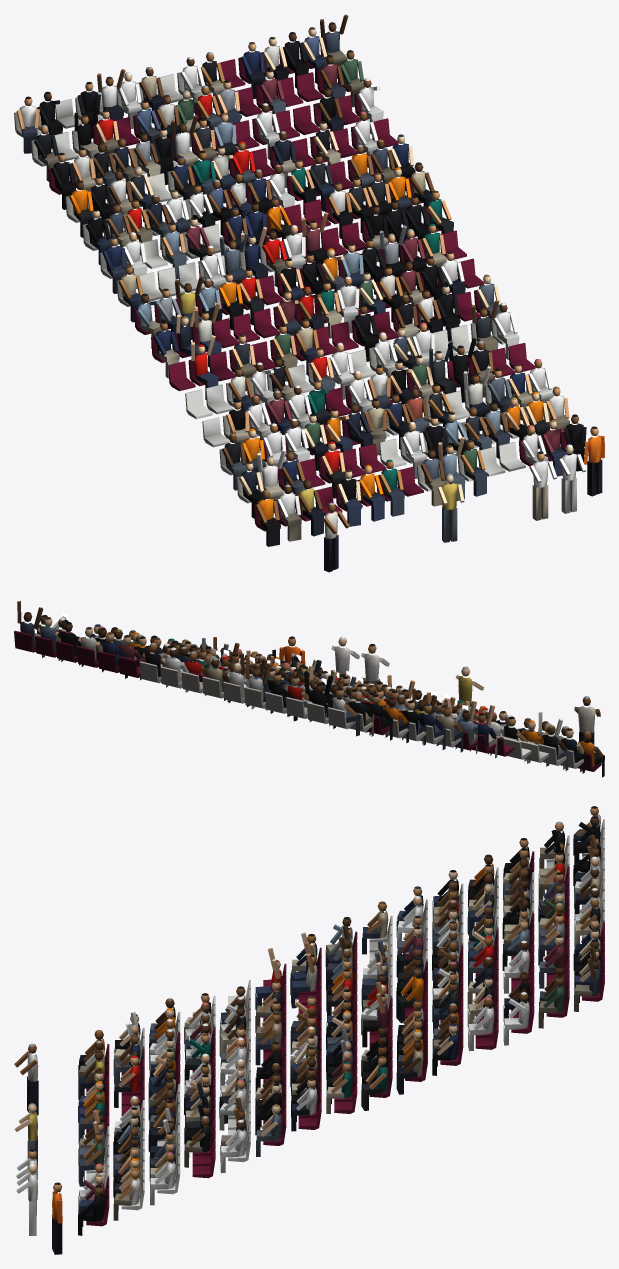
The model's file is stand_T16_kit_3.glb.
3 views of the same model, one above another, from view 1: azimuth 30°, elevation 25°; view 2: azimuth 150°, elevation 25°; view 3: azimuth 270°, elevation 25° (orthographic). The views are drawn at different scales.
Visible parts, largest first — view 1: kit_3; view 2: kit_3; view 3: kit_3.
Part boxes in pixels (x1=…): kit_3: x1=14, y1=14, x2=604, y2=572; kit_3: x1=14, y1=601, x2=604, y2=777; kit_3: x1=14, y1=806, x2=604, y2=1254.
Size of the model in its own units: 8.94 by 7.41 by 13.36.
